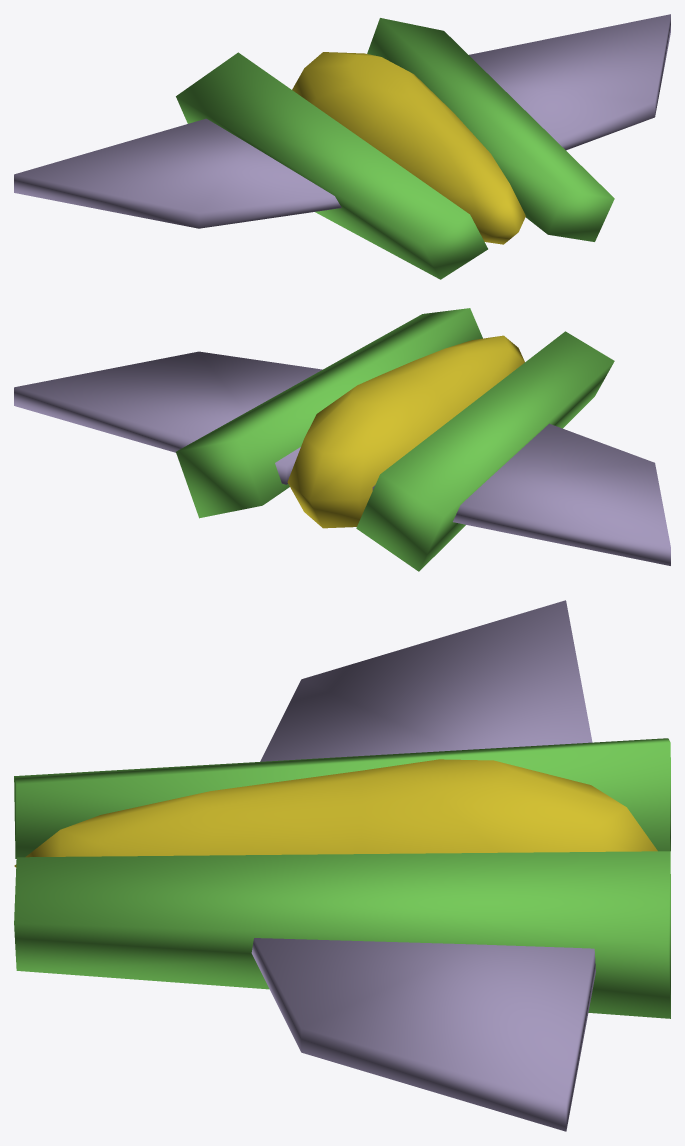
Rendered from ship_15.gltf.
3 views of the same model, one above another, from view 1: azimuth 30°, elevation 25°; view 2: azimuth 150°, elevation 25°; view 3: azimuth 270°, elevation 25° (orthographic). The views are drawn at different scales.
Visible parts, largest first — view 1: gtlf; view 2: gtlf; view 3: gtlf.
Boxes of the visible parts, x1=… form: gtlf: x1=14, y1=14, x2=670, y2=279; gtlf: x1=14, y1=308, x2=670, y2=571; gtlf: x1=14, y1=600, x2=670, y2=1131.
Size of the model in its own units: 1.82 by 0.3193 by 1.
